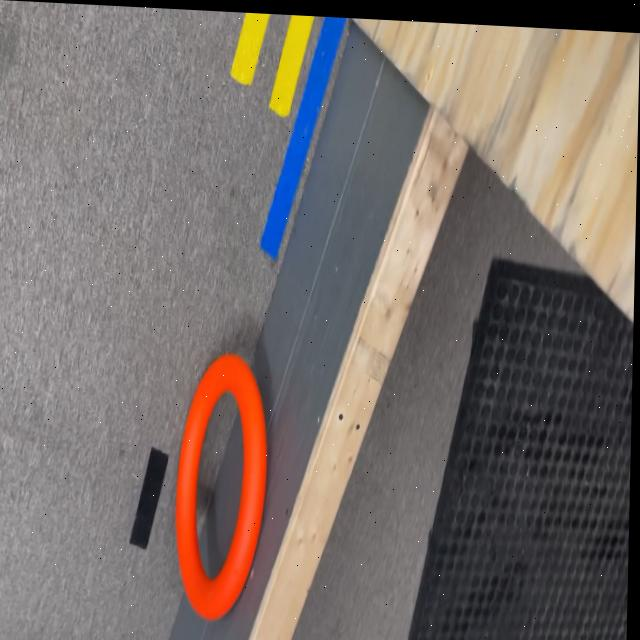note: (175, 348, 273, 619)
